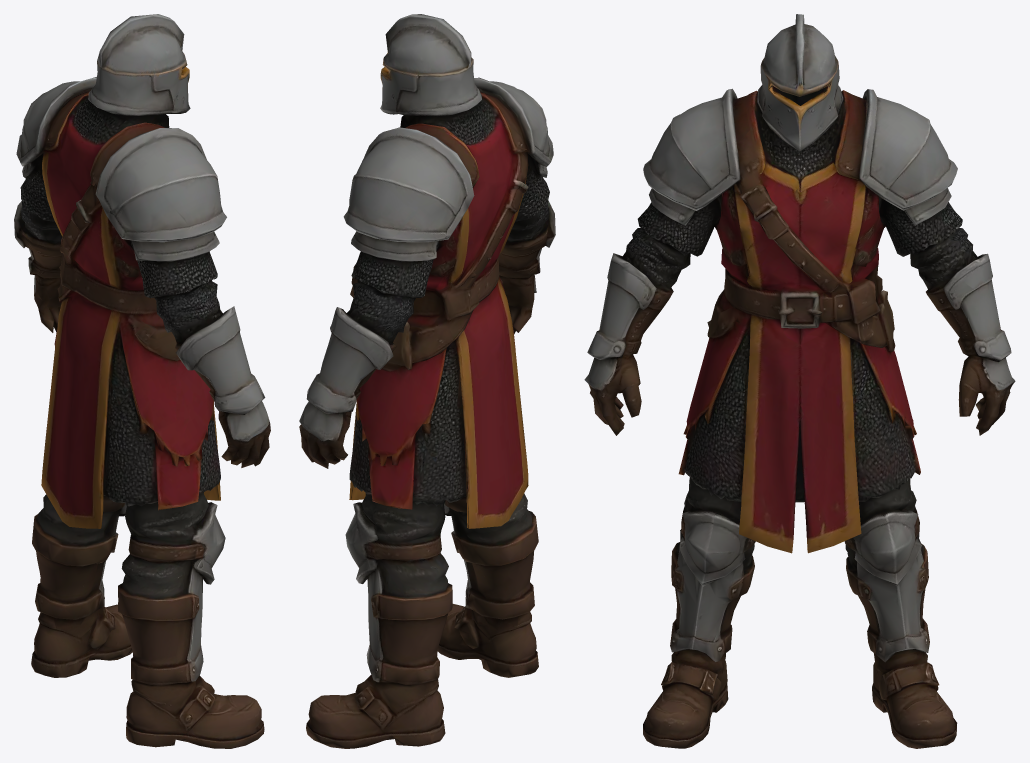
The model's file is model-char-knight-01.glb.
3 views of the same model, side by side, from view 1: azimuth 30°, elevation 25°; view 2: azimuth 150°, elevation 25°; view 3: azimuth 270°, elevation 25° (orthographic). The views are drawn at different scales.
Parts seen in each view (by area): view 1: tripo_node_99f8e8c4-2125-4e6d-b5bd-779d33cdd22f; view 2: tripo_node_99f8e8c4-2125-4e6d-b5bd-779d33cdd22f; view 3: tripo_node_99f8e8c4-2125-4e6d-b5bd-779d33cdd22f.
Boxes of the visible parts, x1,y1,x2,y2 form: tripo_node_99f8e8c4-2125-4e6d-b5bd-779d33cdd22f: (14,14,270,748); tripo_node_99f8e8c4-2125-4e6d-b5bd-779d33cdd22f: (299,14,555,748); tripo_node_99f8e8c4-2125-4e6d-b5bd-779d33cdd22f: (584,14,1015,748).
Bounding box in the file's own units: 0.3902 × 1.85 × 1.03.
1 material, 1 textured.
